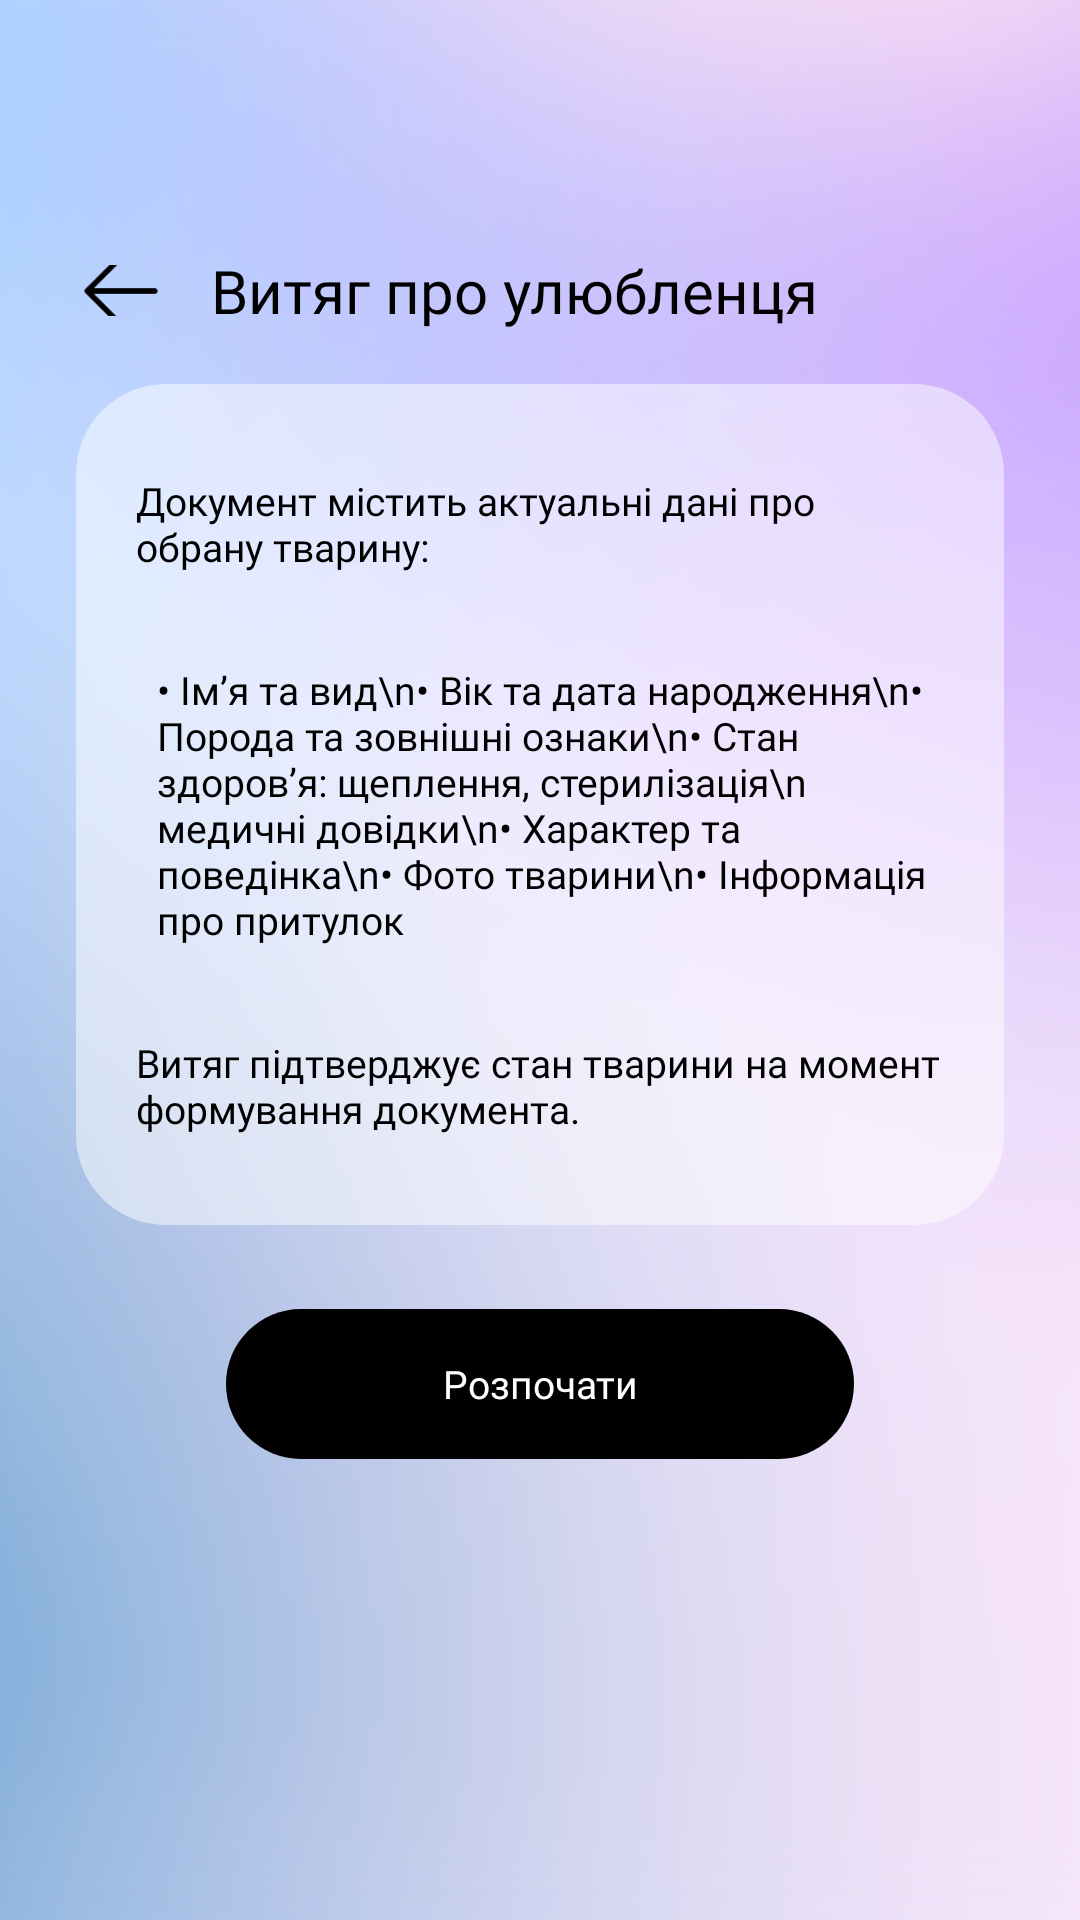

Icon bounding boxes for this 1080 x 1920 phone screenshot, format box=[x1, y1, x2, y2]:
arrow left: box=[84, 265, 158, 316]
